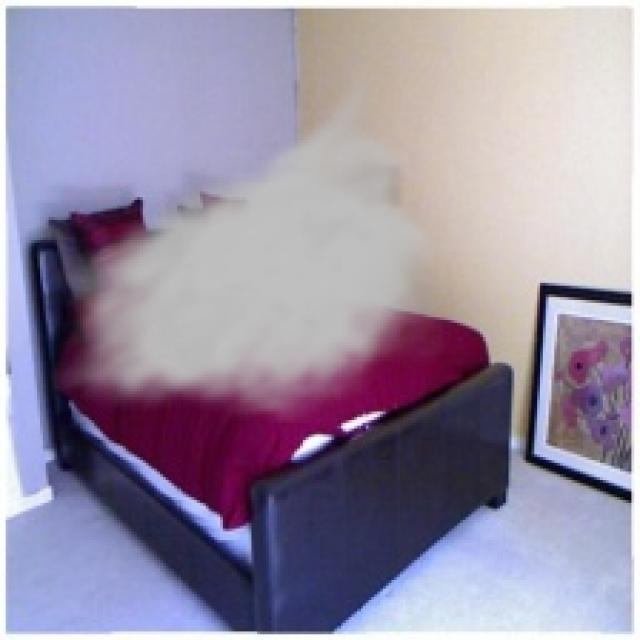Smoke: (48, 63, 454, 423)
